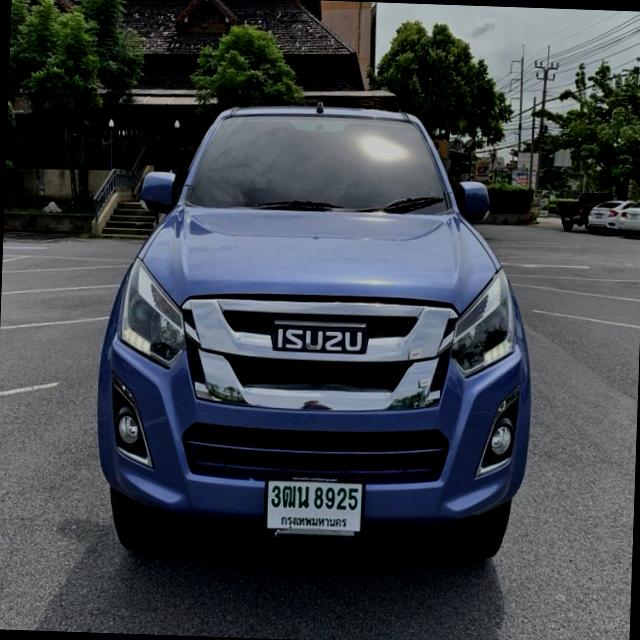license_plate: (263, 472, 368, 539)
